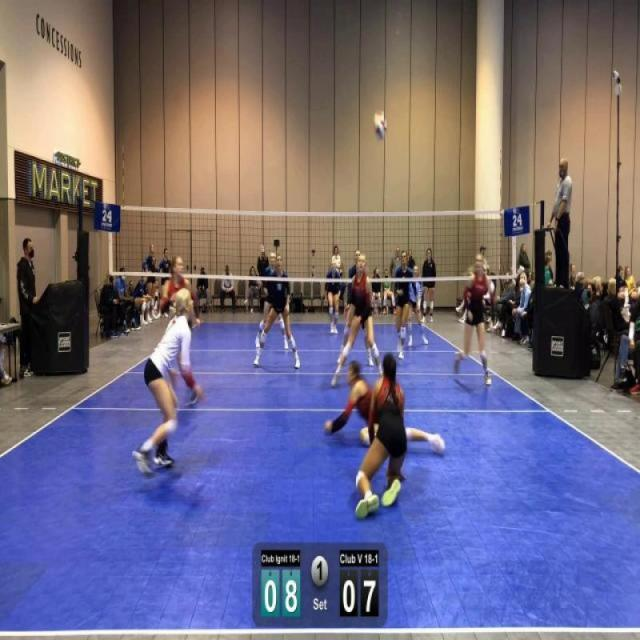volleyball: (372, 108, 388, 142)
